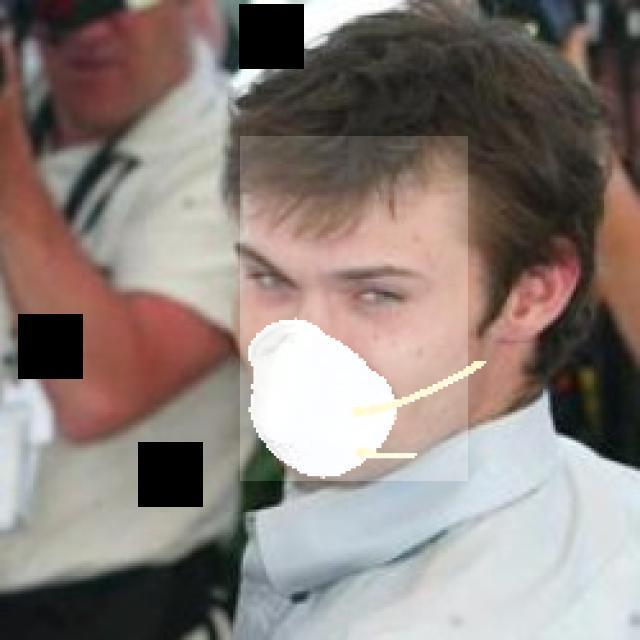n95: (240, 136, 468, 481)
